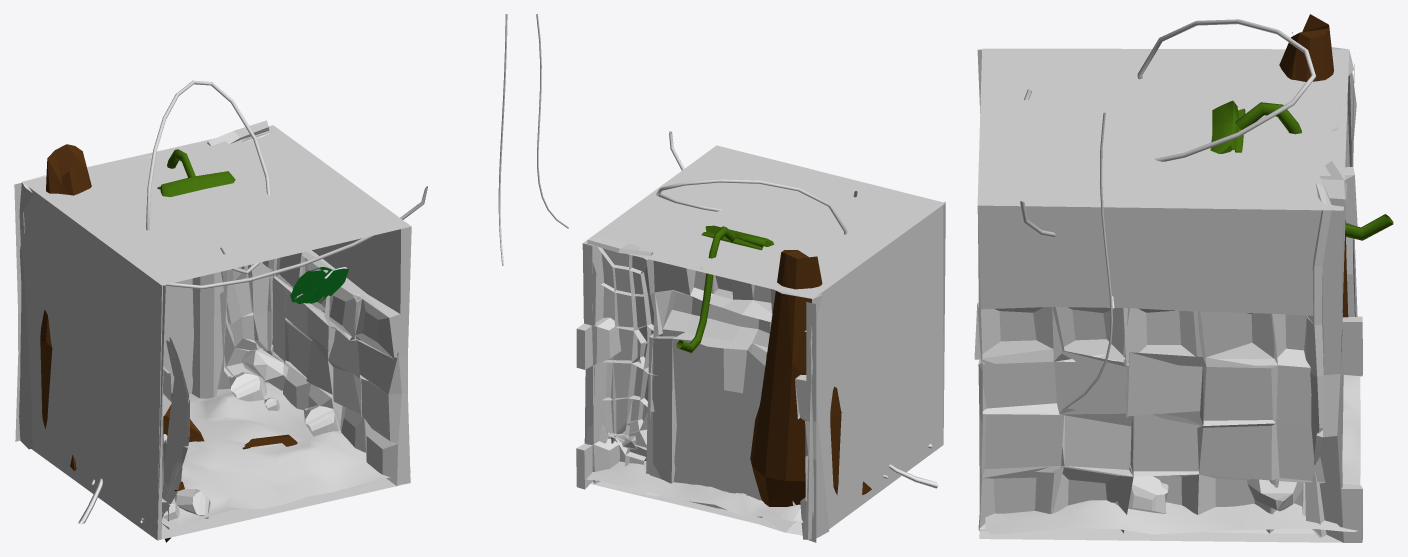
File: Jungle_RoomWndy.fbx
The picture shows the model from 3 angles, left to right: view 1: azimuth 30°, elevation 25°; view 2: azimuth 150°, elevation 25°; view 3: azimuth 270°, elevation 25°; orthographic projection. The views are drawn at different scales.
Visible parts, largest first — view 1: Plane, GRound, Big_Tree, BezierCurve, Banana_Plant_Left.003, CArnivorous_plant_head, Big_Leaf, Rock, rOCK2, rOCK2.006, rOCK2.004, BezierCurve.002; view 2: Plane, Big_Tree, GRound, CArnivorous_plant_head, BezierCurve, BezierCurve.002; view 3: Plane, GRound, CArnivorous_plant_head, Big_Tree, BezierCurve, rOCK2.006, Rock, BezierCurve.002.
Boxes of the visible parts, bbox=[...] form: Plane: bbox=[14, 120, 411, 540]; GRound: bbox=[162, 382, 410, 528]; Big_Tree: bbox=[40, 144, 297, 542]; BezierCurve: bbox=[146, 80, 427, 289]; Banana_Plant_Left.003: bbox=[163, 337, 189, 485]; CArnivorous_plant_head: bbox=[157, 149, 235, 276]; Big_Leaf: bbox=[290, 267, 349, 303]; Rock: bbox=[241, 348, 288, 390]; rOCK2: bbox=[229, 372, 266, 401]; rOCK2.006: bbox=[303, 405, 340, 436]; rOCK2.004: bbox=[174, 489, 210, 518]; BezierCurve.002: bbox=[498, 14, 507, 265]; Plane: bbox=[576, 145, 945, 542]; Big_Tree: bbox=[750, 250, 871, 506]; GRound: bbox=[586, 461, 803, 522]; CArnivorous_plant_head: bbox=[676, 225, 774, 352]; BezierCurve: bbox=[656, 131, 857, 234]; BezierCurve.002: bbox=[536, 14, 568, 228]; Plane: bbox=[974, 47, 1362, 542]; GRound: bbox=[985, 375, 1360, 534]; CArnivorous_plant_head: bbox=[1210, 100, 1393, 240]; Big_Tree: bbox=[1279, 14, 1348, 317]; BezierCurve: bbox=[1020, 19, 1316, 237]; rOCK2.006: bbox=[1114, 476, 1168, 513]; Rock: bbox=[1247, 479, 1302, 511]; BezierCurve.002: bbox=[1064, 112, 1112, 408].
Bounding box in the file's own units: 526 × 505 × 341.
